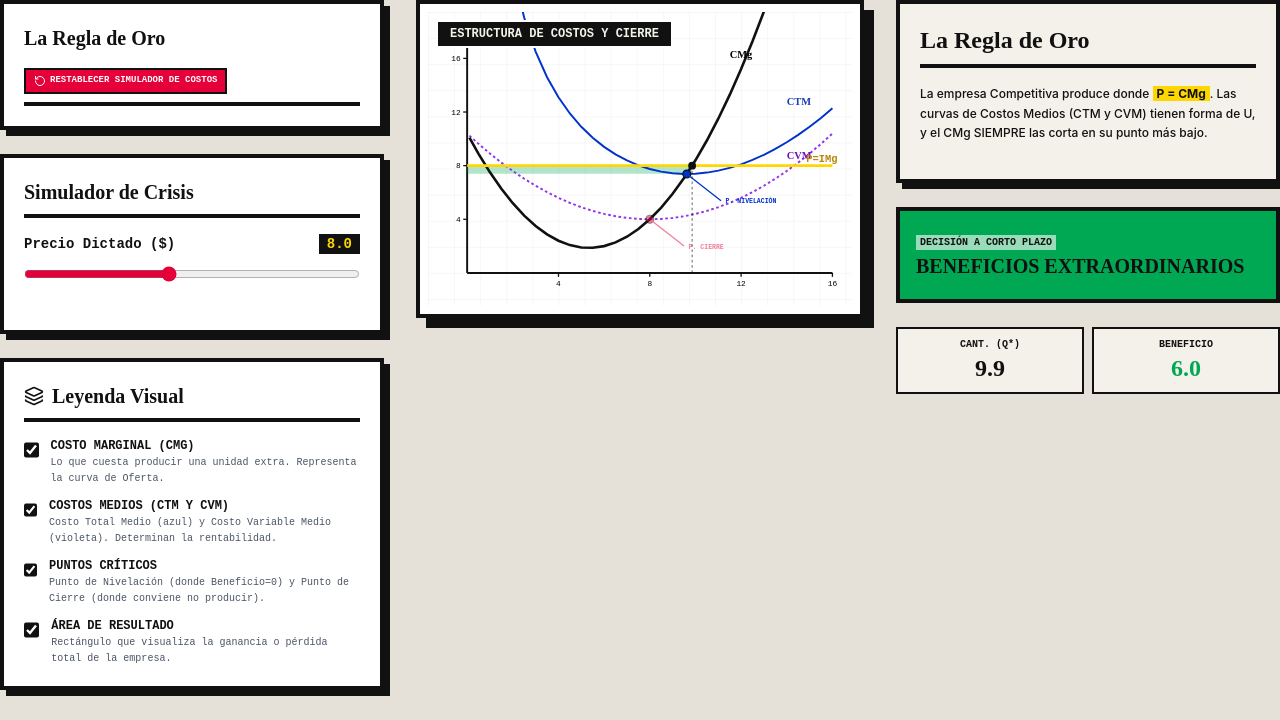
it: Costos integration › renders shutdown hatch and fixed-cost loss label when price is below minimum AVC
The width and height of the screenshot is (1280, 720).
Set the slider to "2". click: (32, 274)
box: 24,268 -> 360,280
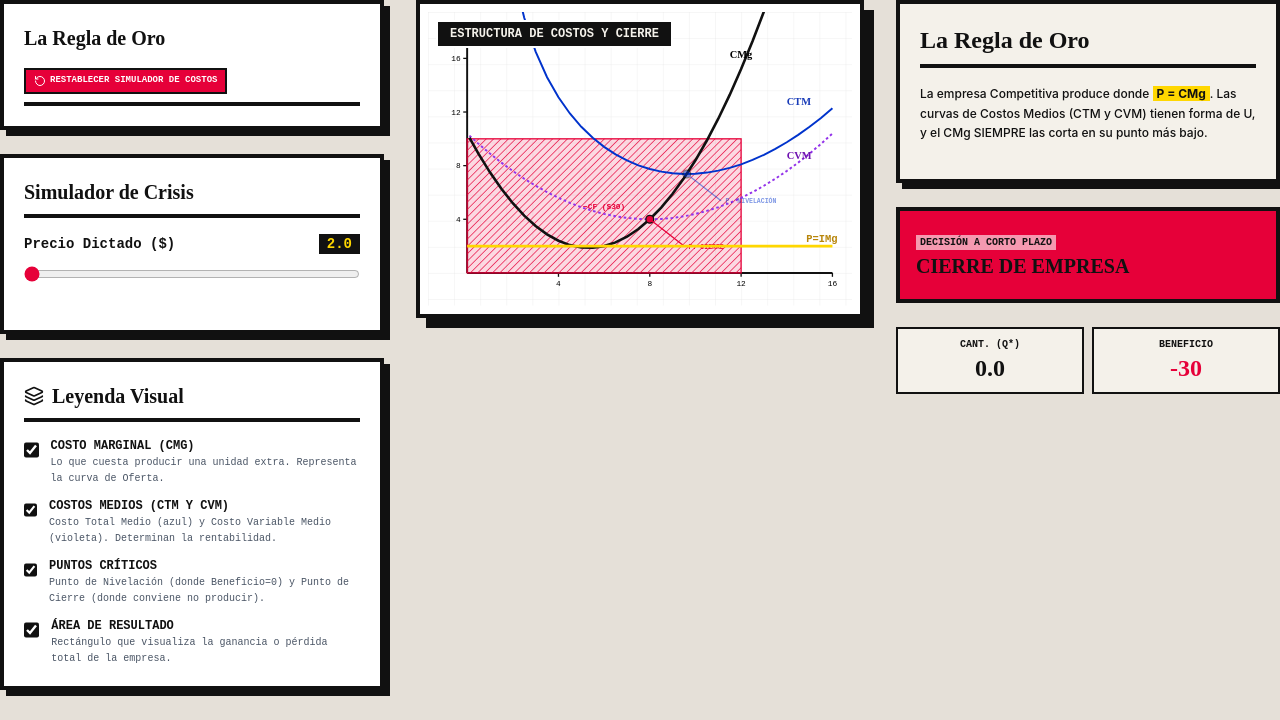
Check: the text "CF" is shown, box 583,202 -> 625,211
Check: the text "CIERRE DE EMPRESA" is shown, box 916,254 -> 1129,276
Check: the text "-30" is shown, box 1170,354 -> 1202,380
